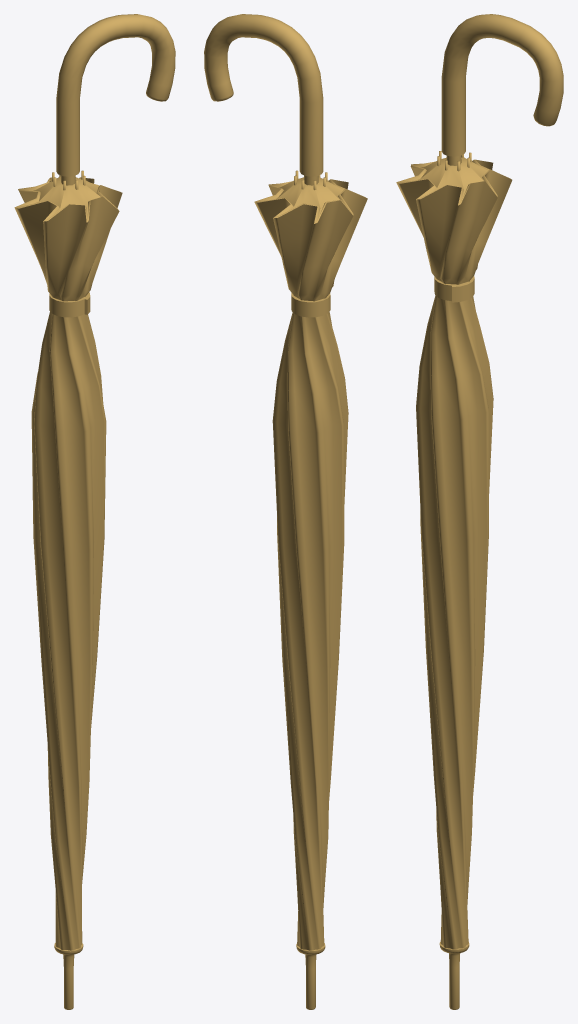
Rendered from Umbrella.fbx.
3 views of the same model, side by side, from view 1: azimuth 30°, elevation 25°; view 2: azimuth 150°, elevation 25°; view 3: azimuth 330°, elevation 25° (orthographic). The views are drawn at different scales.
Visible parts, largest first — view 1: Umbrella; view 2: Umbrella; view 3: Umbrella.
Boxes of the visible parts, <box> form: Umbrella: <box>14,14,175,1009</box>; Umbrella: <box>204,14,367,1009</box>; Umbrella: <box>396,14,563,1009</box>.
Bounding box in the file's own units: 15.09 × 91.98 × 9.46.
